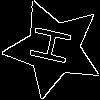H: (28, 23, 82, 70)
